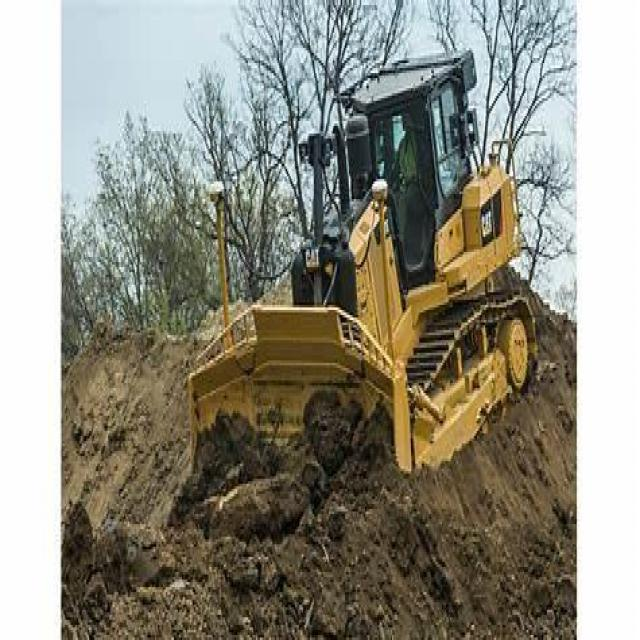Bulldozer: (175, 15, 538, 532)
